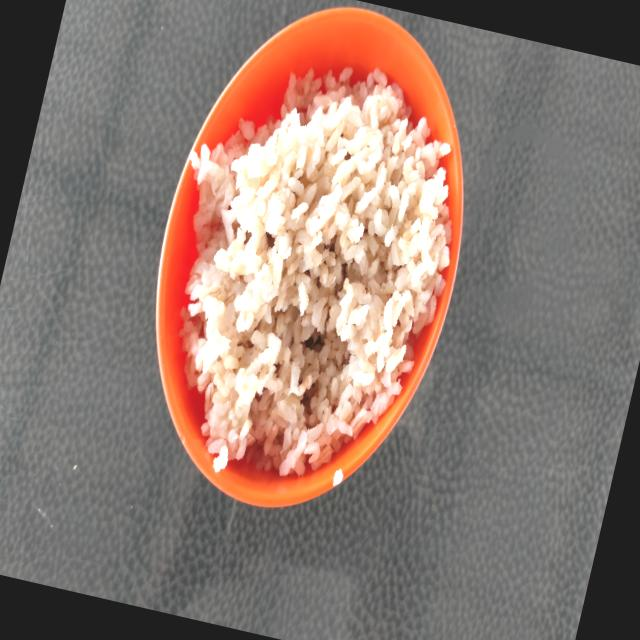brown-rice: (181, 68, 451, 476)
